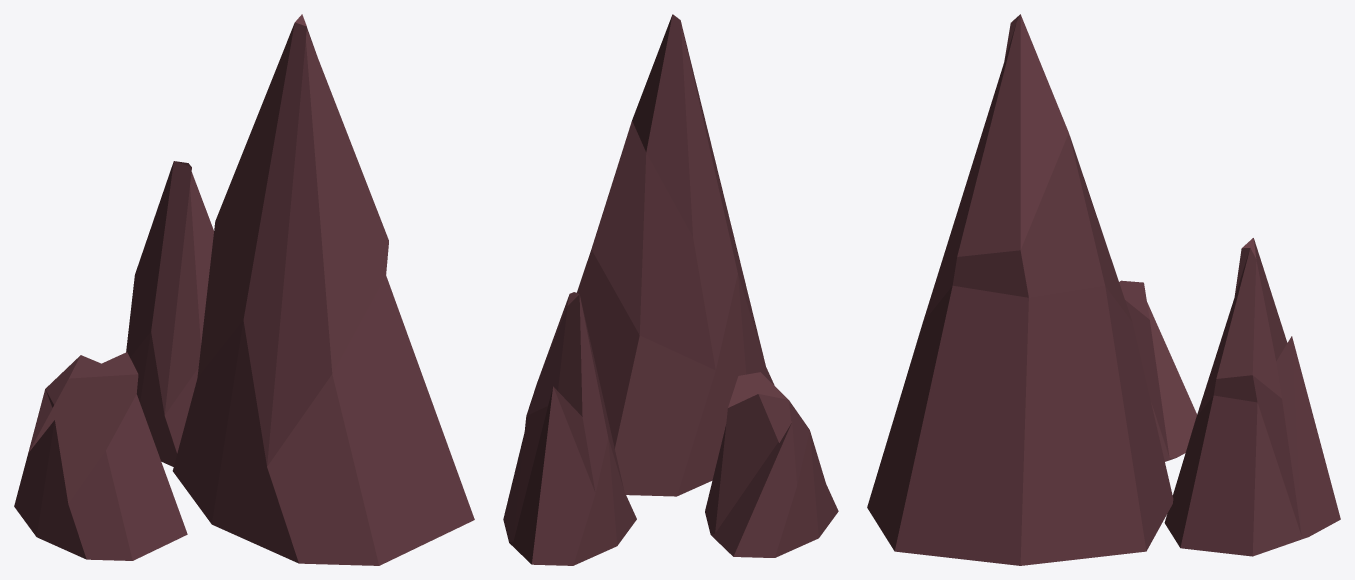
The model's file is rocha - versão 6.fbx.
3 views of the same model, side by side, from view 1: azimuth 30°, elevation 25°; view 2: azimuth 150°, elevation 25°; view 3: azimuth 270°, elevation 25° (orthographic). The views are drawn at different scales.
Parts seen in each view (by area): view 1: Cube.004; view 2: Cube.004; view 3: Cube.004.
Boxes of the visible parts, x1,y1,x2,y2 form: Cube.004: [14, 14, 474, 565]; Cube.004: [503, 14, 838, 565]; Cube.004: [867, 14, 1340, 565].
Bounding box in the file's own units: 317 × 446 × 374.
